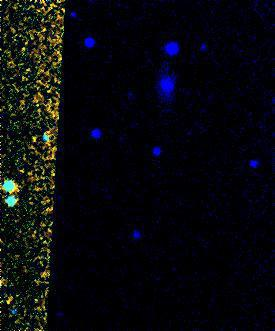star: (19, 127, 49, 157)
